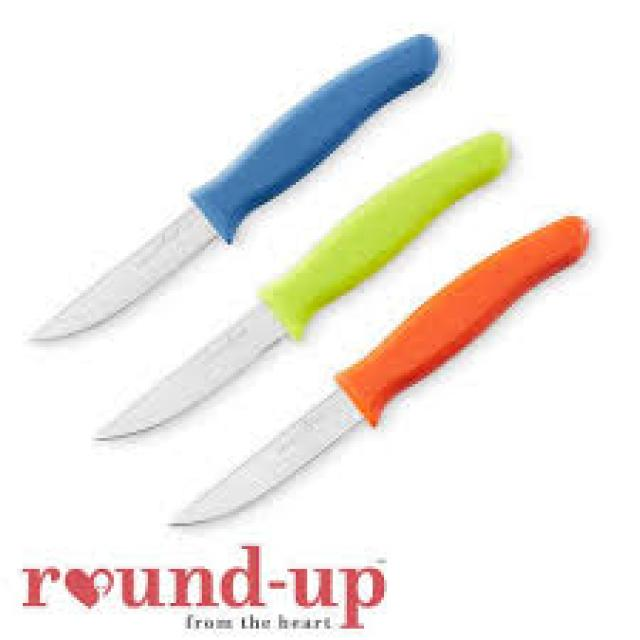knives: (22, 25, 446, 350)
